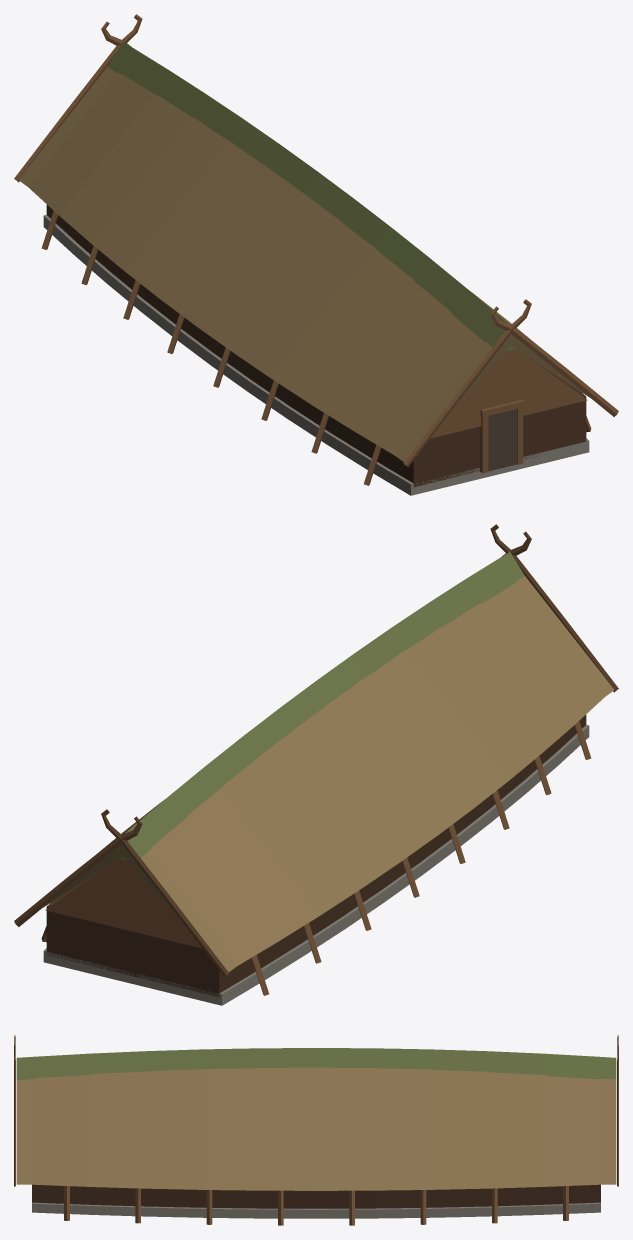
Rendered from longhouse.glb.
3 views of the same model, one above another, from view 1: azimuth 30°, elevation 25°; view 2: azimuth 150°, elevation 25°; view 3: azimuth 270°, elevation 25° (orthographic). The views are drawn at different scales.
Parts seen in each view (by area): view 1: longhouse; view 2: longhouse; view 3: longhouse.
Part boxes in pixels (x1,y1,x2,y2): longhouse: (14,14,618,495); longhouse: (14,524,618,1005); longhouse: (14,1035,618,1225).
Size of the model in its own units: 10.32 by 7.05 by 27.64.
